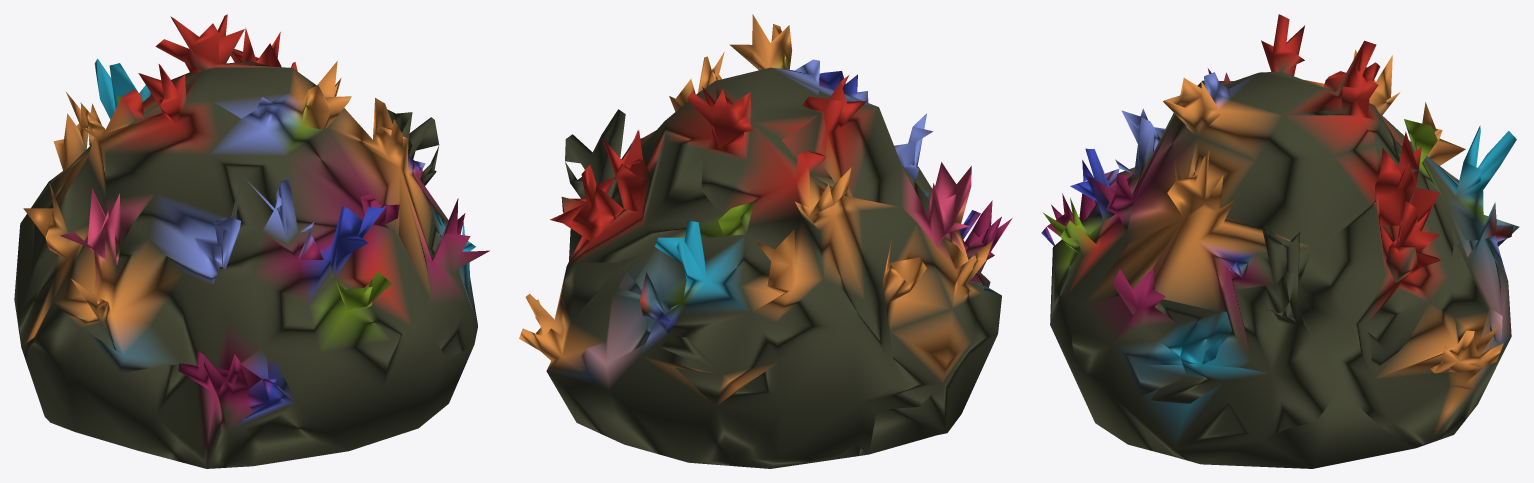
The model's file is gen3d-coral-reef-rock-lod1.glb.
The picture shows the model from 3 angles, left to right: view 1: azimuth 30°, elevation 25°; view 2: azimuth 150°, elevation 25°; view 3: azimuth 270°, elevation 25°; orthographic projection.
Parts seen in each view (by area): view 1: part_0; view 2: part_0; view 3: part_0.
Part boxes in pixels (x1,y1,x2,y2): part_0: (14,14,489,468); part_0: (519,14,1012,468); part_0: (1041,14,1519,468).
Size of the model in its own units: 1.27 by 0.9949 by 1.3.
